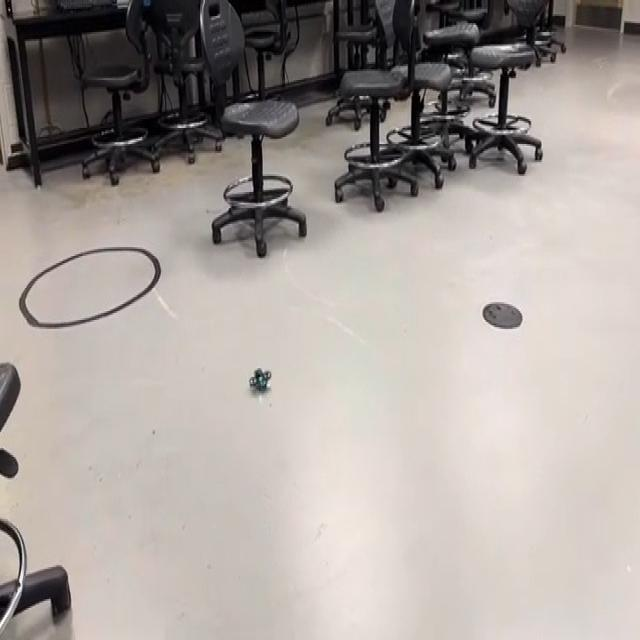drone: (242, 354, 276, 400)
